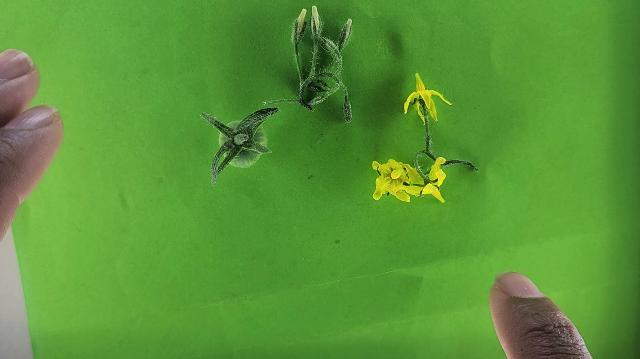Anthesis: (404, 72, 453, 125), (372, 160, 420, 203)
Flower Bud: (293, 8, 307, 38), (342, 86, 352, 123), (310, 6, 320, 34), (343, 17, 352, 42)
Fruit Maturation: (219, 120, 269, 168)
